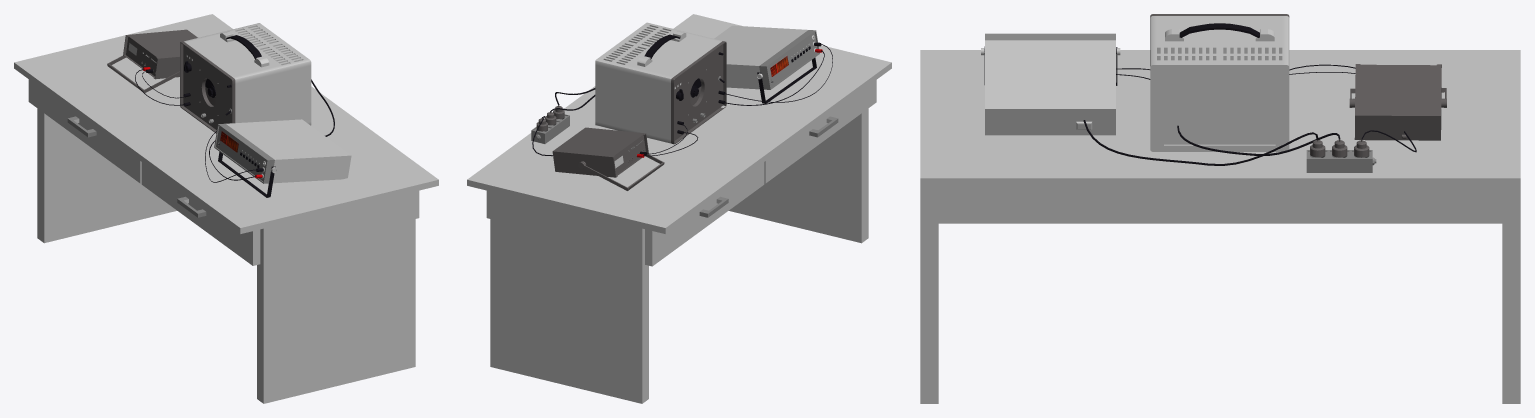
File: installation1.fbx
The picture shows the model from 3 angles, left to right: view 1: azimuth 30°, elevation 25°; view 2: azimuth 150°, elevation 25°; view 3: azimuth 270°, elevation 25°; orthographic projection. The views are drawn at different scales.
Parts seen in each view (by area): view 1: Plane, Cube, Cube.004, Cube.006; view 2: Plane, Cube, Cube.004, Cube.006, Cube.011, Cylinder.013; view 3: Plane, Cube, Cube.004, Cube.006, Cube.011, BezierCurve.004, Plane.001.
Part boxes in pixels (x1,y1,x2,y2): Plane: (14, 14, 438, 403); Cube: (180, 23, 311, 133); Cube.004: (214, 119, 351, 183); Cube.006: (123, 29, 197, 79); Plane: (467, 14, 891, 403); Cube: (595, 22, 726, 144); Cube.004: (714, 25, 819, 89); Cube.006: (552, 127, 648, 177); Cube.011: (531, 114, 569, 143); Cylinder.013: (578, 154, 664, 190); Plane: (920, 50, 1520, 403); Cube: (1150, 14, 1289, 151); Cube.004: (981, 33, 1120, 135); Cube.006: (1354, 64, 1441, 140); Cube.011: (1306, 150, 1376, 172); BezierCurve.004: (1083, 120, 1318, 165); Plane.001: (1179, 23, 1259, 37).
Size of the model in its own units: 237 by 293 by 468.
